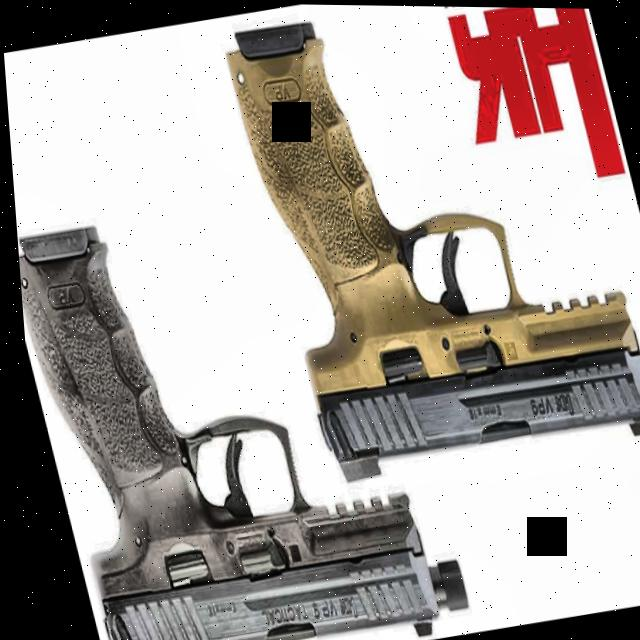HKVP9: (205, 2, 640, 510), (10, 168, 436, 640)
